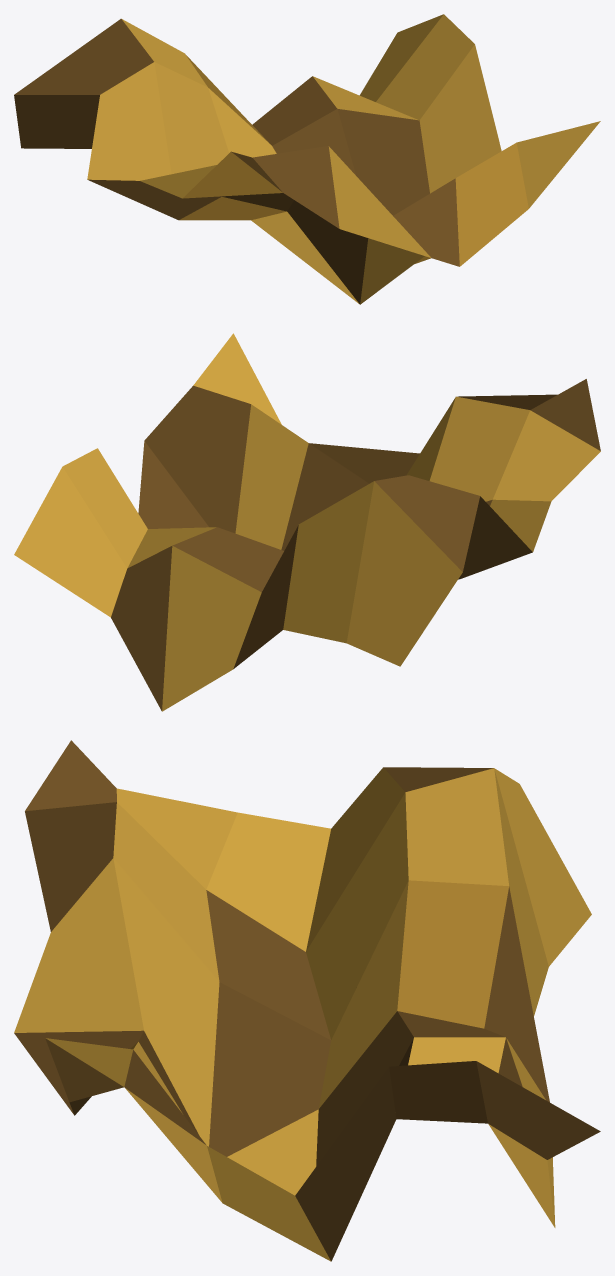
File: deb-mli-03.obj
The picture shows the model from 3 angles, top to bottom: view 1: azimuth 30°, elevation 25°; view 2: azimuth 150°, elevation 25°; view 3: azimuth 270°, elevation 25°; orthographic projection. The views are drawn at different scales.
Visible parts, largest first — view 1: deb-mli-03; view 2: deb-mli-03; view 3: deb-mli-03.
Boxes of the visible parts, x1,y1,x2,y2 form: deb-mli-03: [14, 14, 600, 304]; deb-mli-03: [14, 333, 600, 711]; deb-mli-03: [14, 740, 600, 1261].
Size of the model in its own units: 0.3317 by 0.188 by 0.2942.
